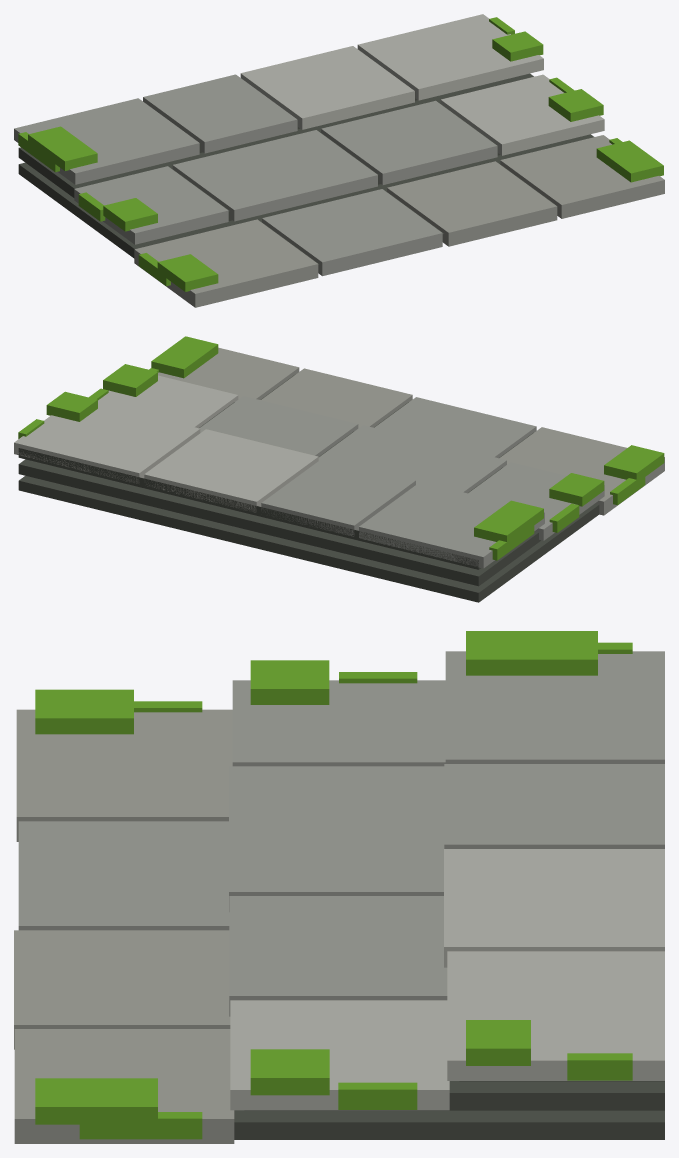
File: Lobby_PortalSteps.glb
The picture shows the model from 3 angles, top to bottom: view 1: azimuth 30°, elevation 25°; view 2: azimuth 150°, elevation 25°; view 3: azimuth 270°, elevation 25°; orthographic projection. The views are drawn at different scales.
Parts seen in each view (by area): view 1: steps_stones_stone, steps_stones_stone_light, steps_stones_step_stone, moss, steps_core; view 2: steps_stones_stone, steps_core, steps_stones_stone_light, steps_stones_step_stone, moss; view 3: steps_stones_stone, steps_stones_stone_light, steps_stones_step_stone, moss, steps_core.
Boxes of the visible parts, x1,y1,x2,y2 form: steps_stones_stone: (14,74,497,276); steps_stones_stone_light: (240,14,604,155); steps_stones_step_stone: (134,135,664,307); moss: (18,17,663,291); steps_core: (18,73,593,264); steps_stones_stone: (199,396,604,568); steps_core: (18,374,599,602); steps_stones_stone_light: (14,375,318,512); steps_stones_step_stone: (158,347,664,515); moss: (18,336,664,560); steps_stones_stone: (18,651,664,1016); steps_stones_stone_light: (230,849,664,1110); steps_stones_step_stone: (14,709,234,1143); moss: (35,631,632,1139); steps_core: (234,1081,664,1139).
Bounding box in the file's own units: 3.06 × 0.34 × 2.02.
